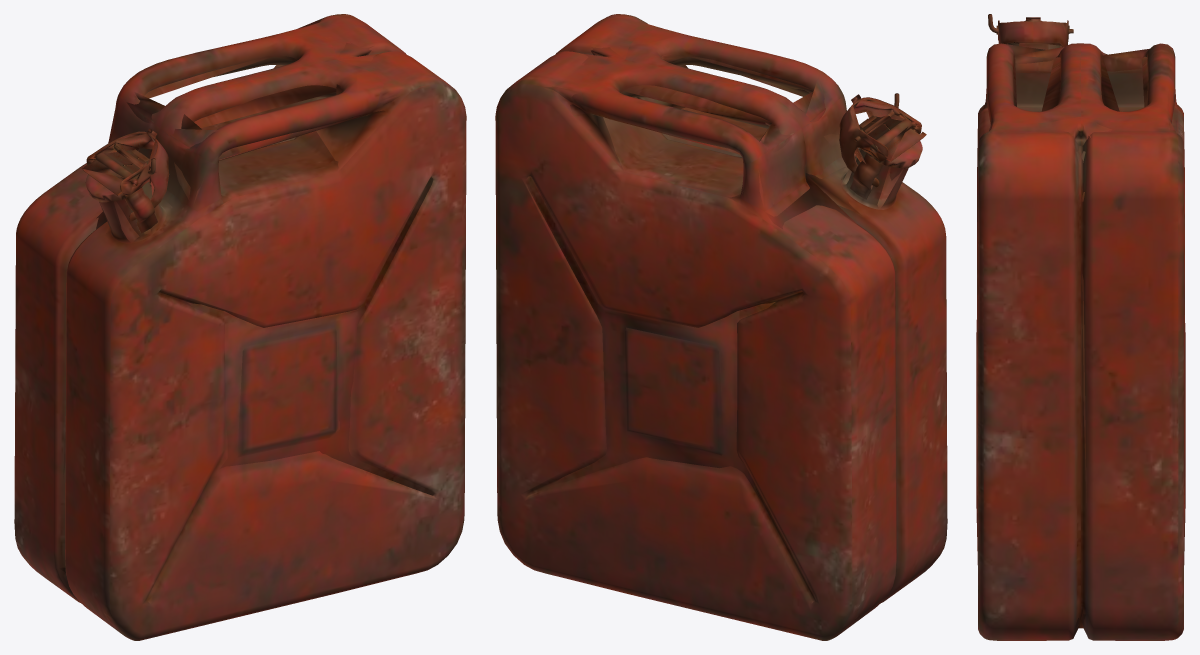
Rendered from metal_jerrycan.glb.
3 renders of one model, left to right at view 1: azimuth 30°, elevation 25°; view 2: azimuth 150°, elevation 25°; view 3: azimuth 270°, elevation 25°, orthographic. The views are drawn at different scales.
Visible parts, largest first — view 1: metal_jerrycan, metal_jerrycan_lo; view 2: metal_jerrycan, metal_jerrycan_lo; view 3: metal_jerrycan, metal_jerrycan_lo.
Part boxes in pixels (x1=…): metal_jerrycan: x1=14, y1=14, x2=466, y2=640; metal_jerrycan_lo: x1=58, y1=17, x2=433, y2=572; metal_jerrycan: x1=495, y1=14, x2=947, y2=640; metal_jerrycan_lo: x1=525, y1=47, x2=917, y2=572; metal_jerrycan: x1=976, y1=14, x2=1185, y2=640; metal_jerrycan_lo: x1=983, y1=22, x2=1178, y2=635.
Bounding box in the file's own units: 0.3502 × 0.455 × 0.1717.
Materials: 1 (1 with a texture image).
